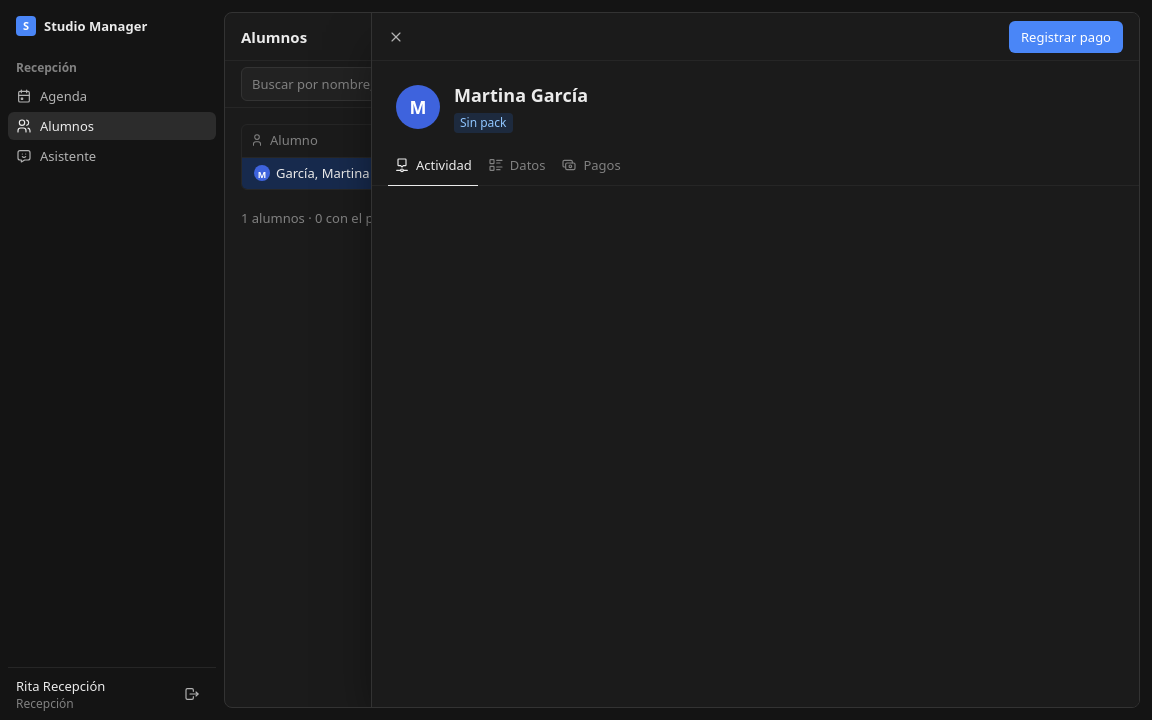
Scenario: /alumnos/:id › anular un pago manda el motivo
Click the tab "Pagos": x=591, y=166 [555, 145, 627, 186]
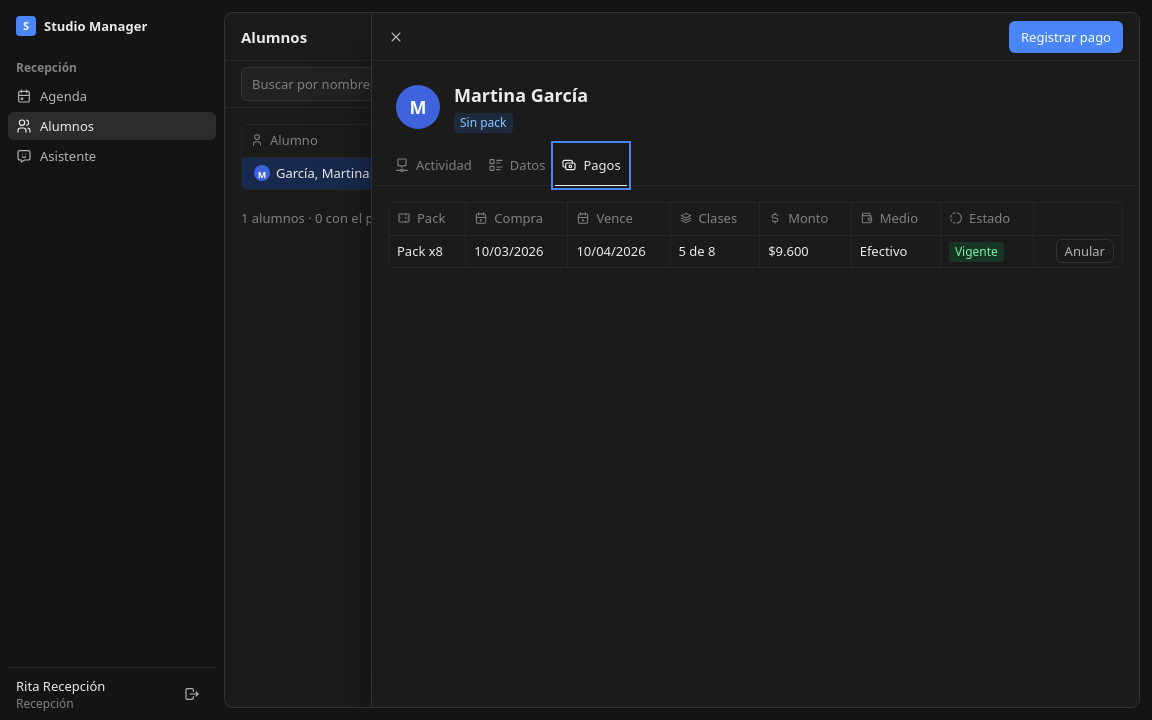
Click the button "Anular": x=1085, y=251 [1056, 239, 1114, 263]
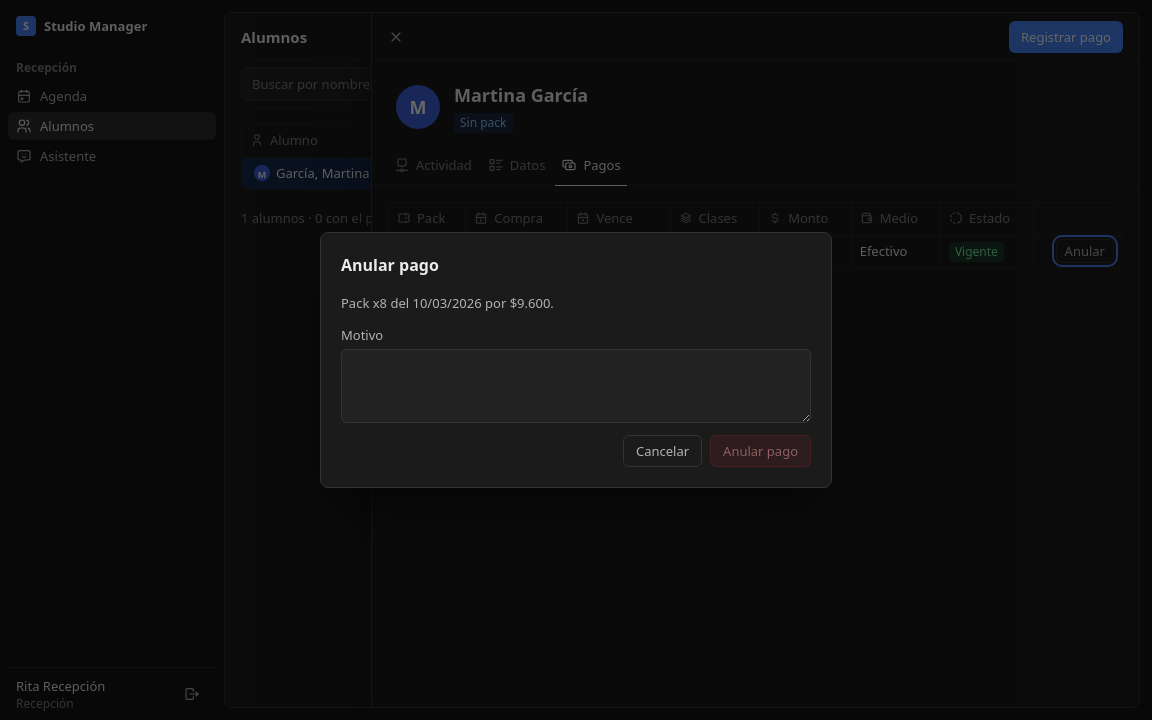
In the text box labelled "Motivo": x=576, y=386 [341, 349, 811, 423], type "Se cargó dos veces"
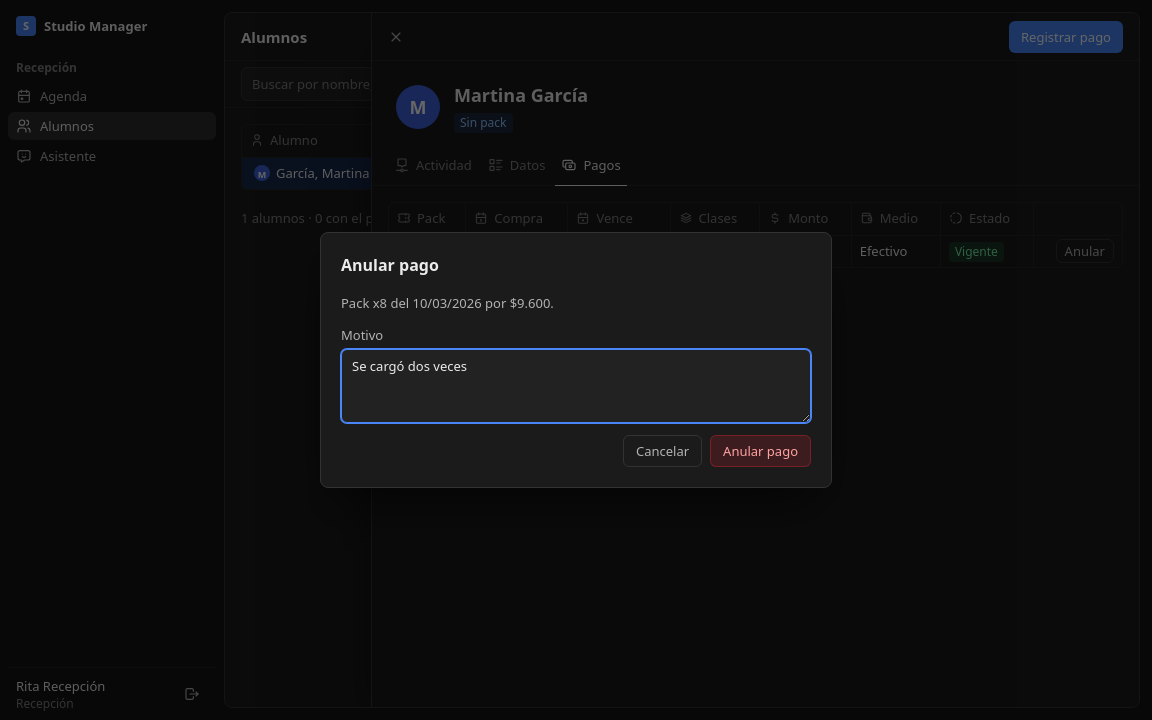
Click the button "Anular pago": x=761, y=451 [710, 435, 811, 467]
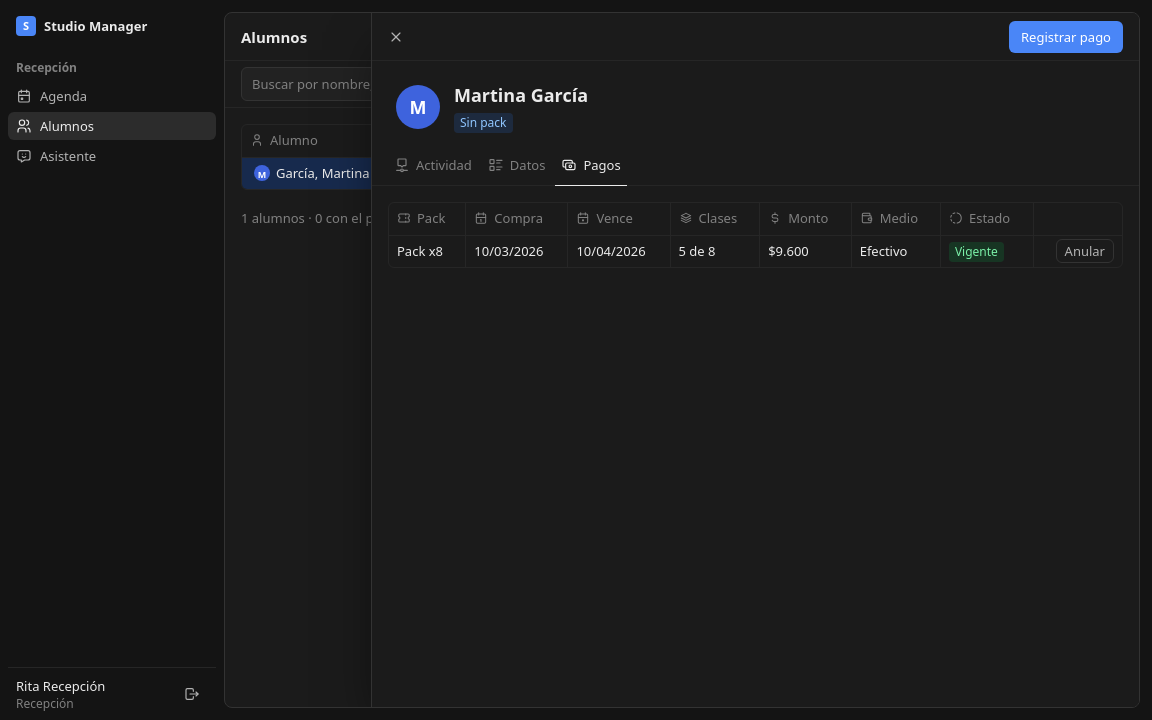
Check: the dialog is gone
